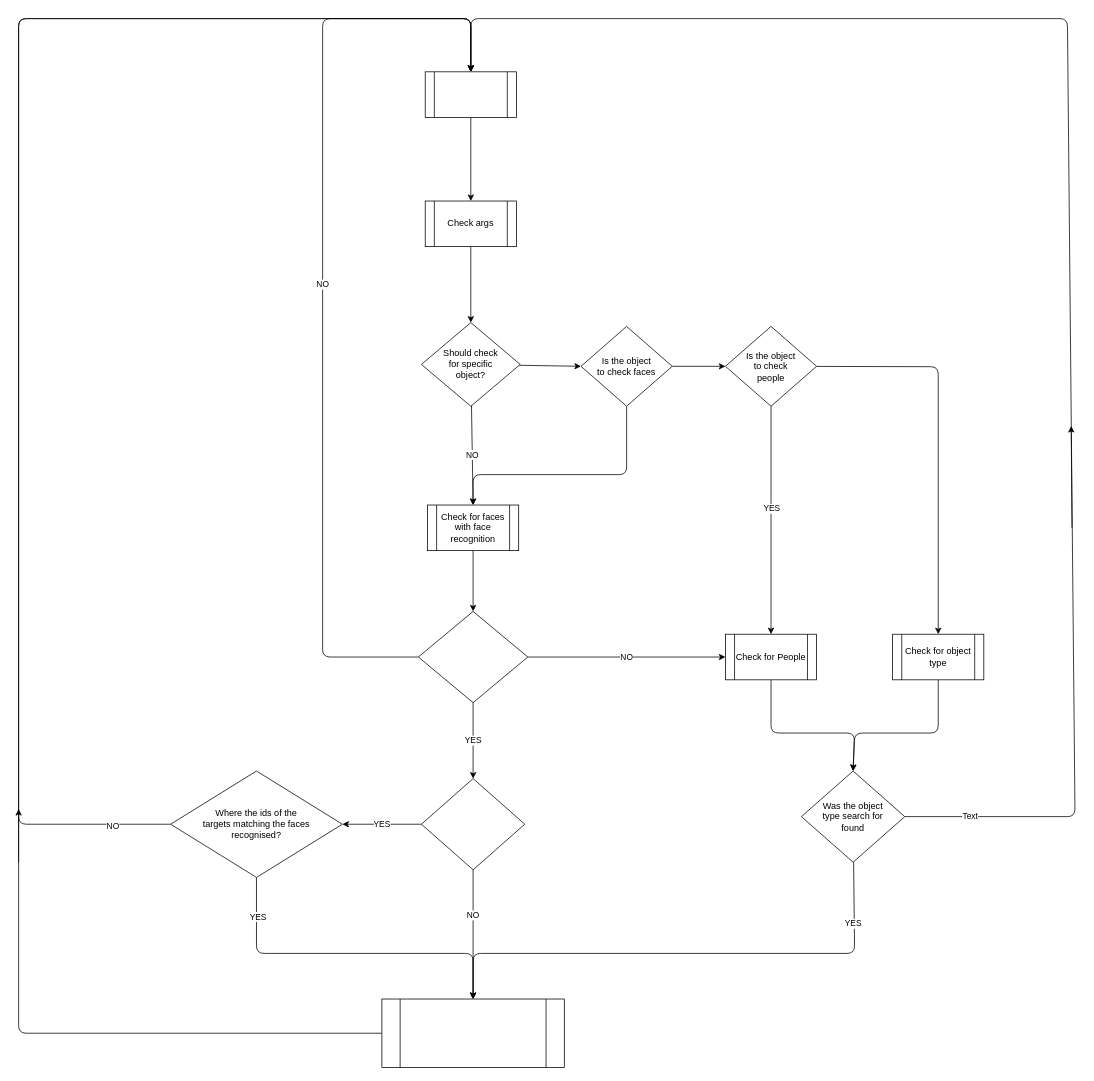
This 1094x1081 diagram has some shape labels left out. The centre of each missing label's shape, as x and y in pixels:
"Aim and shoot" goes at point (472, 1032).
"Start Processing new Frame" goes at point (470, 94).
"Were faces found?" goes at point (473, 657).
"Where target names specified in args?" goes at point (473, 824).
